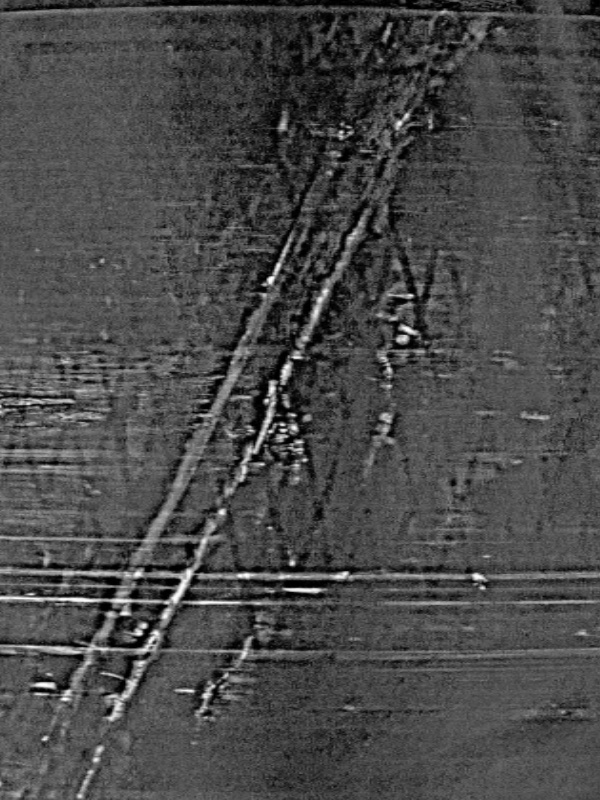splice_vulcanized: (1, 12, 456, 800)
